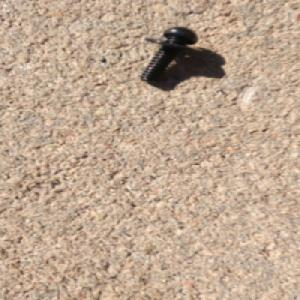BoltWasher: (137, 25, 205, 84)
